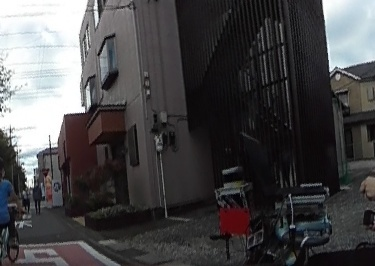person: (32, 177, 43, 214), (20, 184, 30, 210)
